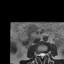CCS_normal: (41, 51, 43, 60)
LFS_normal: (45, 50, 47, 57)
LLS_normal: (43, 51, 45, 58)
RFS_normal: (36, 51, 39, 57)
RLS_normal: (39, 51, 41, 58)
